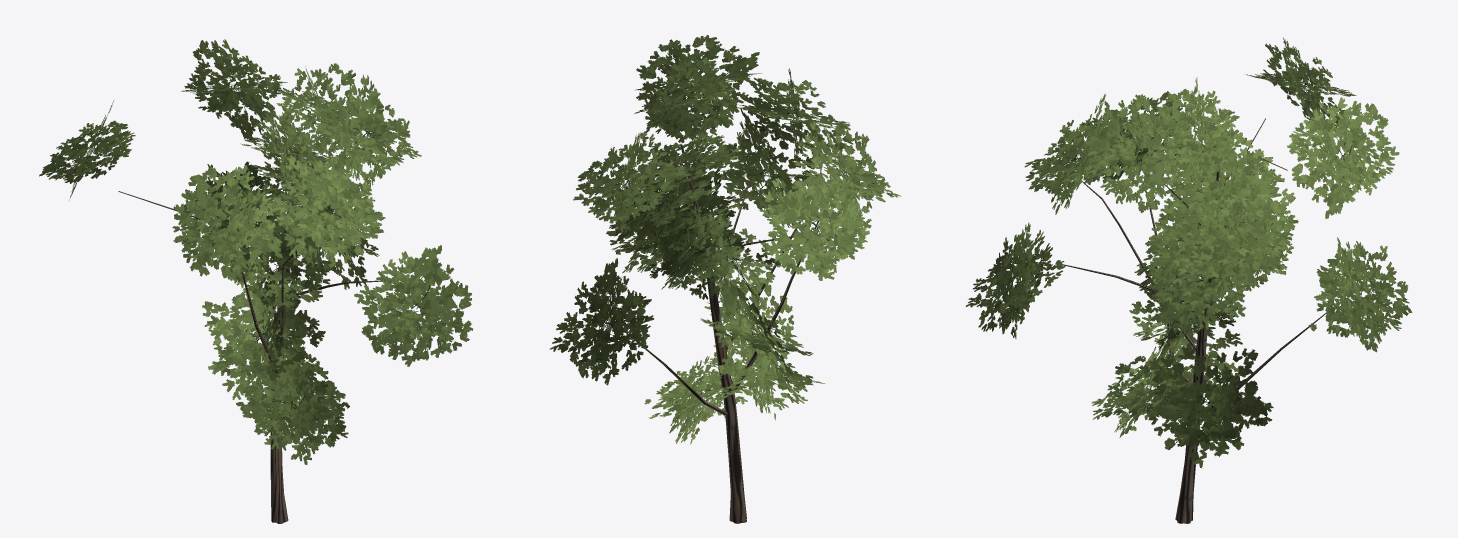
Rendered from sapling-a.lod0.glb.
3 views of the same model, side by side, from view 1: azimuth 30°, elevation 25°; view 2: azimuth 150°, elevation 25°; view 3: azimuth 270°, elevation 25° (orthographic). The views are drawn at different scales.
Parts seen in each view (by area): view 1: foliage, bark; view 2: foliage, bark; view 3: foliage, bark.
Boxes of the visible parts, box(x1,y1,x2,y2) form: foliage: box(39, 39, 473, 464); bark: box(118, 116, 382, 523); foliage: box(550, 35, 901, 444); bark: box(630, 127, 821, 523); foliage: box(965, 37, 1412, 467); bark: box(1061, 118, 1326, 523).
Bounding box in the file's own units: 0.9989 × 1.3 × 1.25.
3 materials, 2 textured.
